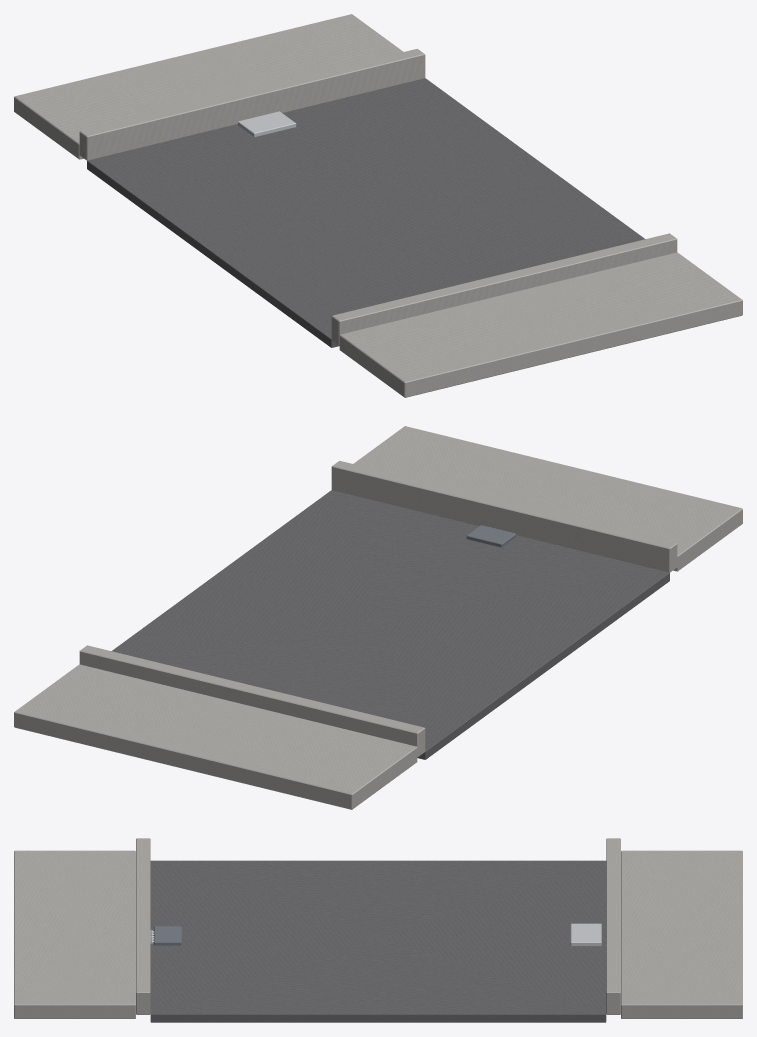
The model's file is street-road-drain-sect.glb.
3 views of the same model, one above another, from view 1: azimuth 30°, elevation 25°; view 2: azimuth 150°, elevation 25°; view 3: azimuth 270°, elevation 25° (orthographic). The views are drawn at different scales.
Visible parts, largest first — view 1: street-road-drain-section; view 2: street-road-drain-section; view 3: street-road-drain-section.
Boxes of the visible parts, x1=… form: street-road-drain-section: x1=14, y1=14, x2=742, y2=397; street-road-drain-section: x1=14, y1=426, x2=742, y2=809; street-road-drain-section: x1=14, y1=838, x2=742, y2=1022.
Size of the model in its own units: 4 by 0.3701 by 8.
Materials: 5 (3 with a texture image).
